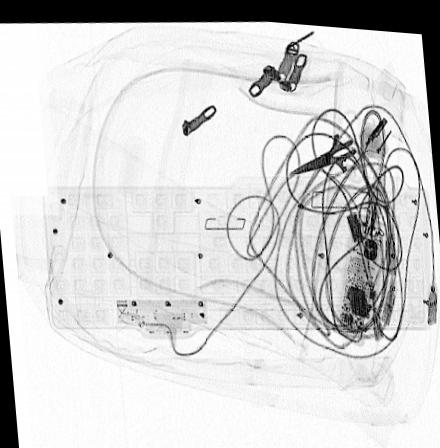Scissors: (287, 101, 371, 178)
